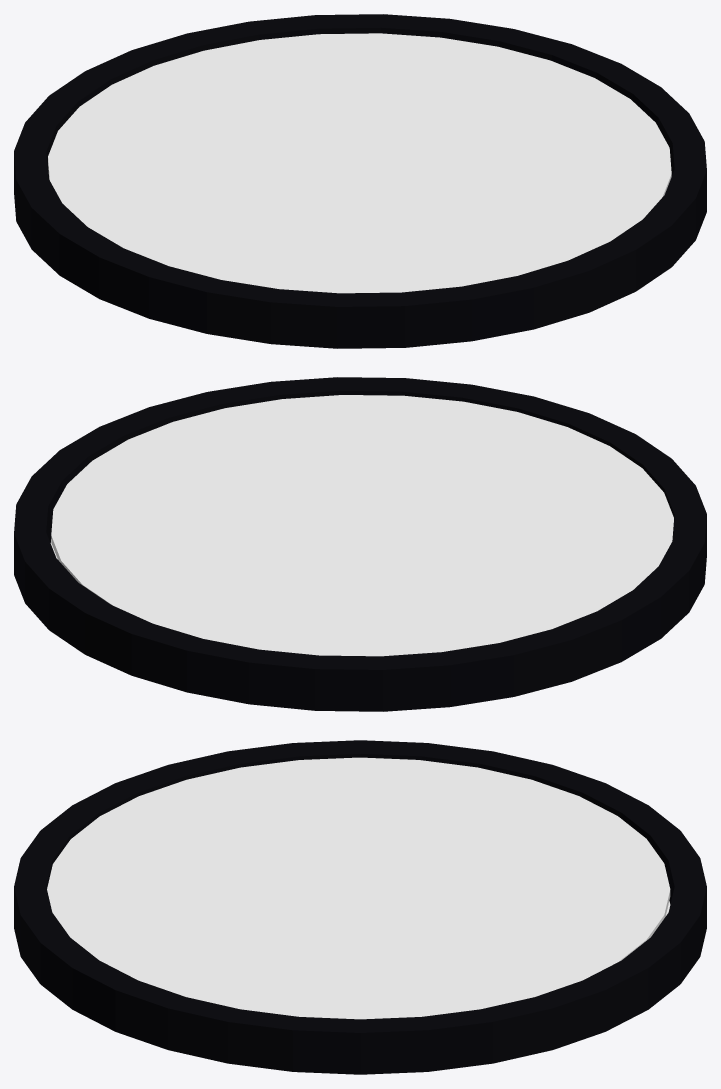
The model's file is reloj.FBX.
The picture shows the model from 3 angles, top to bottom: view 1: azimuth 30°, elevation 25°; view 2: azimuth 150°, elevation 25°; view 3: azimuth 270°, elevation 25°; orthographic projection.
Visible parts, largest first — view 1: Cristal, Base; view 2: Cristal, Base; view 3: Cristal, Base.
Part boxes in pixels (x1,y1,x2,y2): Cristal: (48,33,671,293); Base: (14,14,706,348); Cristal: (51,395,673,656); Base: (14,377,706,711); Cristal: (47,757,670,1019); Base: (14,740,706,1074).
Size of the model in its own units: 78.74 by 5.23 by 78.74.
